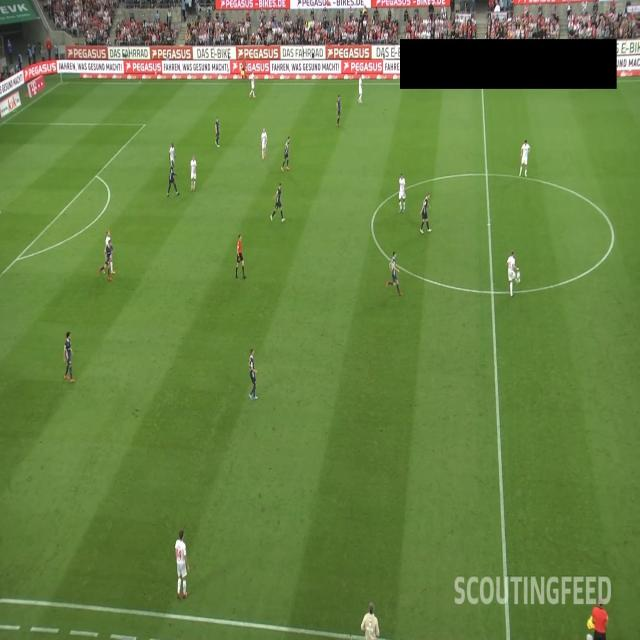ball: (516, 270, 520, 279)
